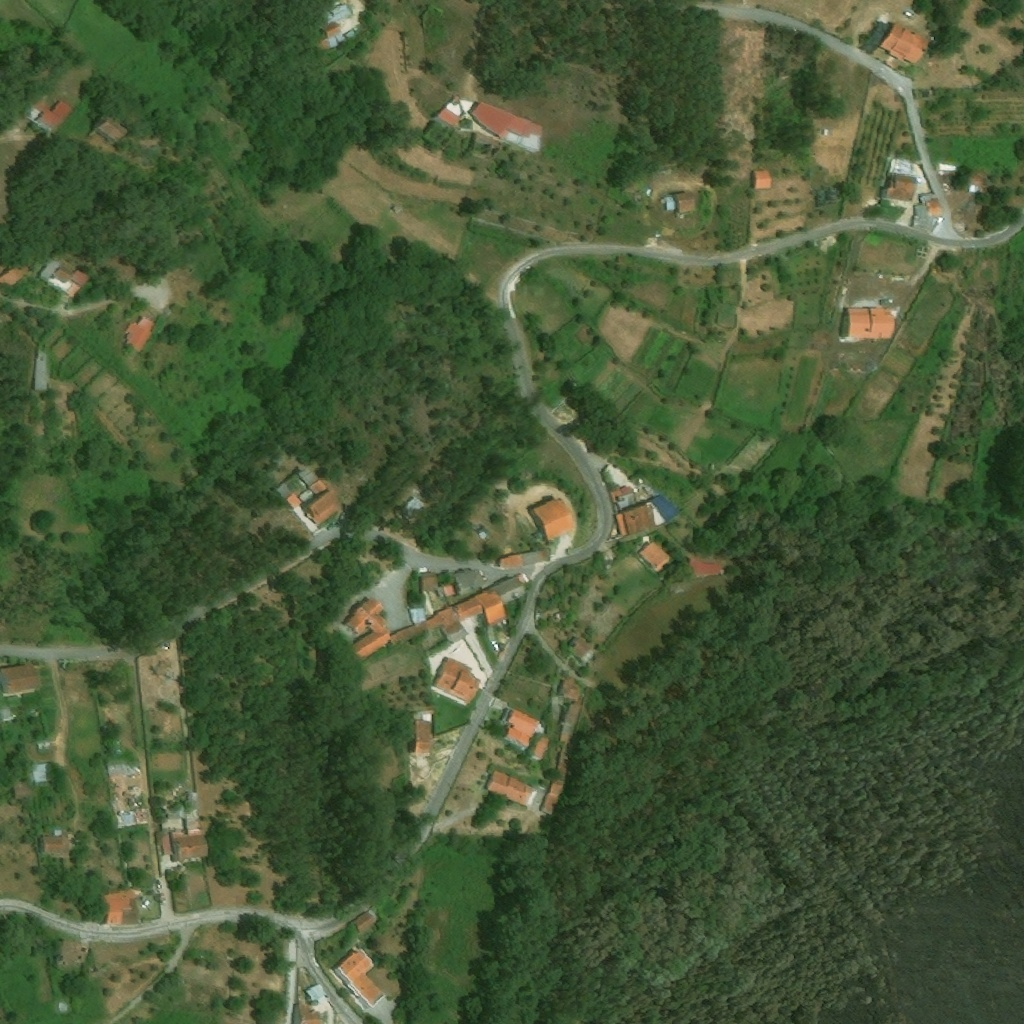0 no-damage: (327, 942, 387, 1013), (604, 485, 684, 538), (427, 638, 487, 692), (344, 595, 393, 661), (467, 100, 545, 139), (393, 604, 467, 645), (429, 656, 481, 707), (876, 20, 929, 66), (525, 496, 575, 544), (452, 586, 509, 628), (483, 768, 536, 809), (838, 302, 896, 339), (39, 257, 90, 297), (500, 706, 539, 752), (300, 486, 342, 527), (910, 190, 945, 234), (52, 936, 90, 974), (633, 540, 671, 576), (120, 315, 153, 356), (105, 889, 140, 925), (0, 663, 42, 692), (879, 173, 917, 202), (451, 567, 490, 595), (155, 818, 183, 857), (495, 572, 529, 604), (170, 835, 209, 862), (93, 115, 128, 145), (538, 778, 564, 818), (565, 633, 596, 666), (499, 548, 544, 570), (409, 712, 432, 754), (295, 464, 325, 495), (419, 573, 454, 599), (683, 556, 722, 578), (274, 480, 302, 510), (482, 622, 506, 656), (39, 829, 69, 856), (660, 191, 697, 212), (32, 348, 48, 393), (322, 2, 354, 24), (525, 735, 549, 764), (303, 982, 331, 1006), (352, 909, 378, 934), (116, 807, 148, 827), (0, 263, 24, 289), (555, 678, 581, 702), (558, 702, 580, 730), (888, 155, 918, 175), (290, 1003, 320, 1023), (434, 105, 460, 127), (106, 757, 134, 777), (401, 496, 424, 519), (32, 111, 57, 130), (319, 19, 343, 38), (966, 171, 986, 193), (185, 810, 201, 836), (318, 34, 342, 50), (445, 101, 466, 116), (32, 763, 48, 782), (14, 780, 30, 799), (557, 725, 572, 745), (185, 791, 200, 811), (0, 707, 16, 721), (753, 177, 771, 189), (49, 103, 64, 117), (535, 723, 548, 736), (167, 810, 184, 819), (58, 1001, 69, 1010), (37, 742, 50, 749)
4 un-classified: (126, 842, 143, 862), (945, 71, 963, 85), (172, 690, 180, 706)
